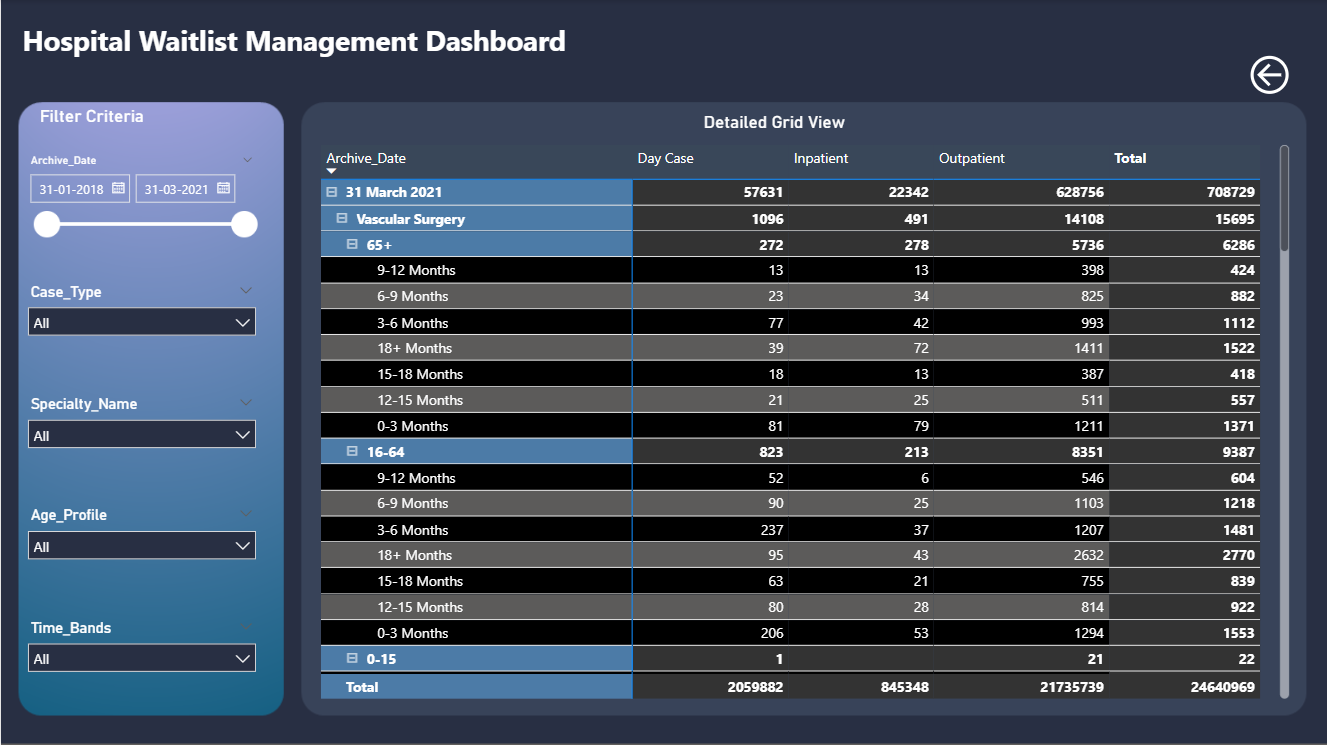

Layout of this report page (visuals, bound fields, positions):
{"tool":"powerbi","page":{"name":"Detail","canvas":[1280,720],"ordinal":1},"visuals":[{"type":"slicer","fields":{"Values":["All Data.Archive_Date"]},"box":[16,144,240,96],"z":0},{"type":"slicer","fields":{"Values":["All Data.Case_Type"]},"box":[16,268,240,80],"z":1000},{"type":"slicer","fields":{"Values":["All Data.Specialty_Name"]},"box":[16,376,240,80],"z":2000},{"type":"textbox","box":[16,16,544,64],"z":3000},{"type":"slicer","fields":{"Values":["All Data.Age_Profile"]},"box":[16,484,240,80],"z":4000},{"type":"slicer","fields":{"Values":["All Data.Time_Bands"]},"box":[16,592,240,80],"z":5000},{"type":"pivotTable","fields":{"Rows":["All Data.Archive_Date","All Data.Specialty_Name","All Data.Age_Profile","All Data.Time_Bands"],"Columns":["All Data.Case_Type"],"Values":["Sum(All Data.Total)"]},"box":[304,135,944,544],"z":6000},{"type":"textbox","box":[32,96,128,32],"z":6001},{"type":"textbox","box":[673,103,160,31],"z":6002},{"type":"actionButton","box":[1200,48,48,48],"z":6003}]}

Visuals, with their boxes in screenshot pixels (x1, y1, x2, y2), scaled from the page's 1280x720 canvas onto the 1327x745 screenshot:
slicer - All Data.Archive_Date: [17, 149, 265, 248]
slicer - All Data.Case_Type: [17, 277, 265, 360]
slicer - All Data.Specialty_Name: [17, 389, 265, 472]
textbox: [17, 17, 581, 83]
slicer - All Data.Age_Profile: [17, 501, 265, 584]
slicer - All Data.Time_Bands: [17, 613, 265, 695]
pivotTable - All Data.Archive_Date x All Data.Specialty_Name: [315, 140, 1294, 703]
textbox: [33, 99, 166, 132]
textbox: [698, 107, 864, 139]
actionButton: [1244, 50, 1294, 99]
